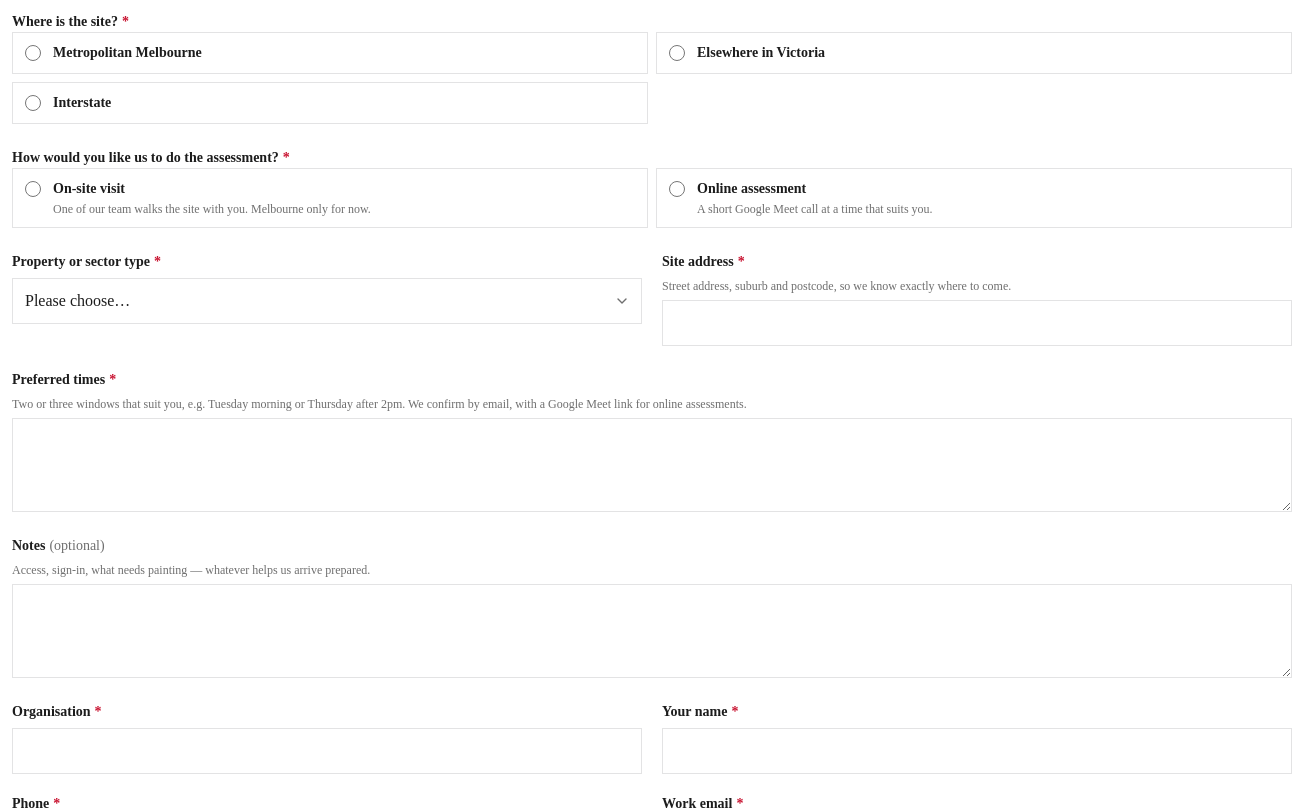
Test: the on-site option follows the site region › disables the on-site visit outside Melbourne and says why
This screenshot has width=1304, height=812.
Step 1. Click the radio button labelled "Elsewhere in Victoria" → (677, 53), box left=669, top=45, right=685, bottom=61
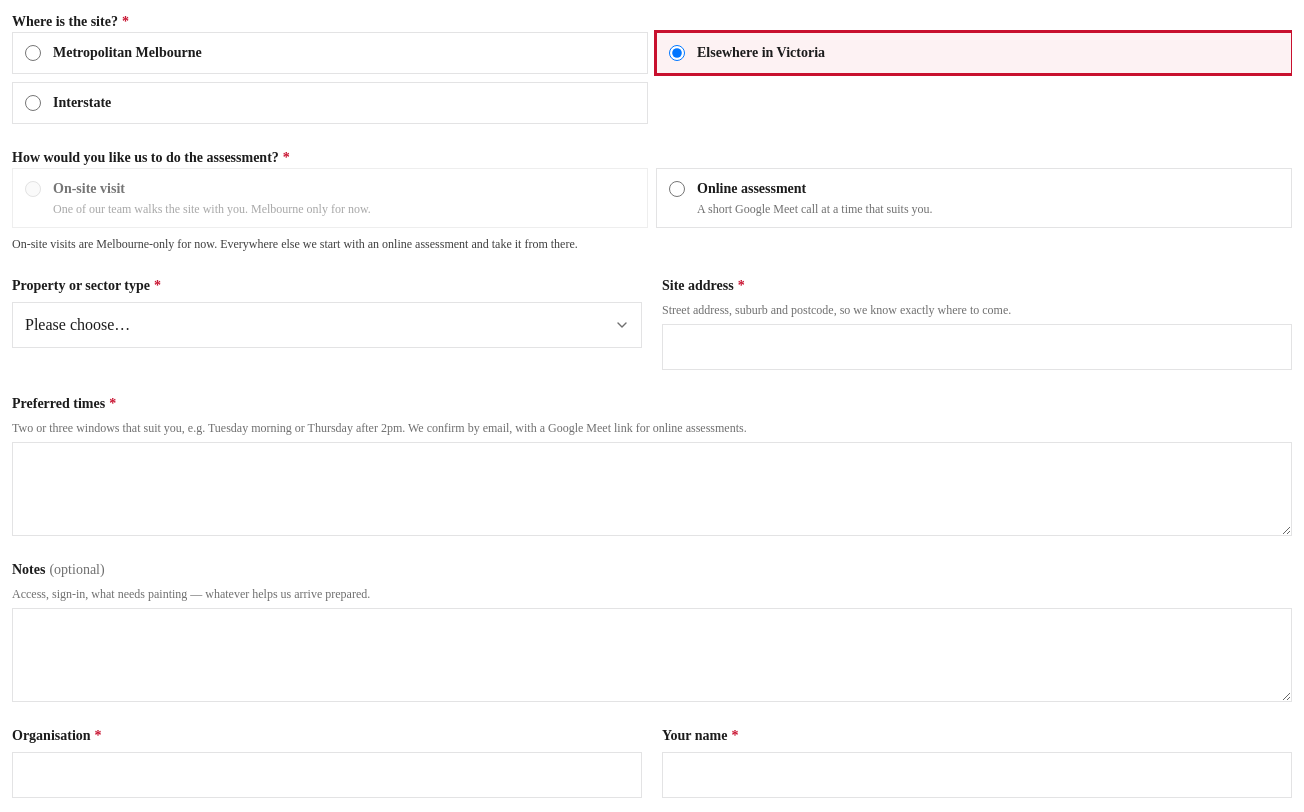
Now the radio button labelled "On-site visit" is disabled, box left=25, top=181, right=41, bottom=197
Now the text "Melbourne-only for now" is shown, box left=12, top=237, right=578, bottom=251
